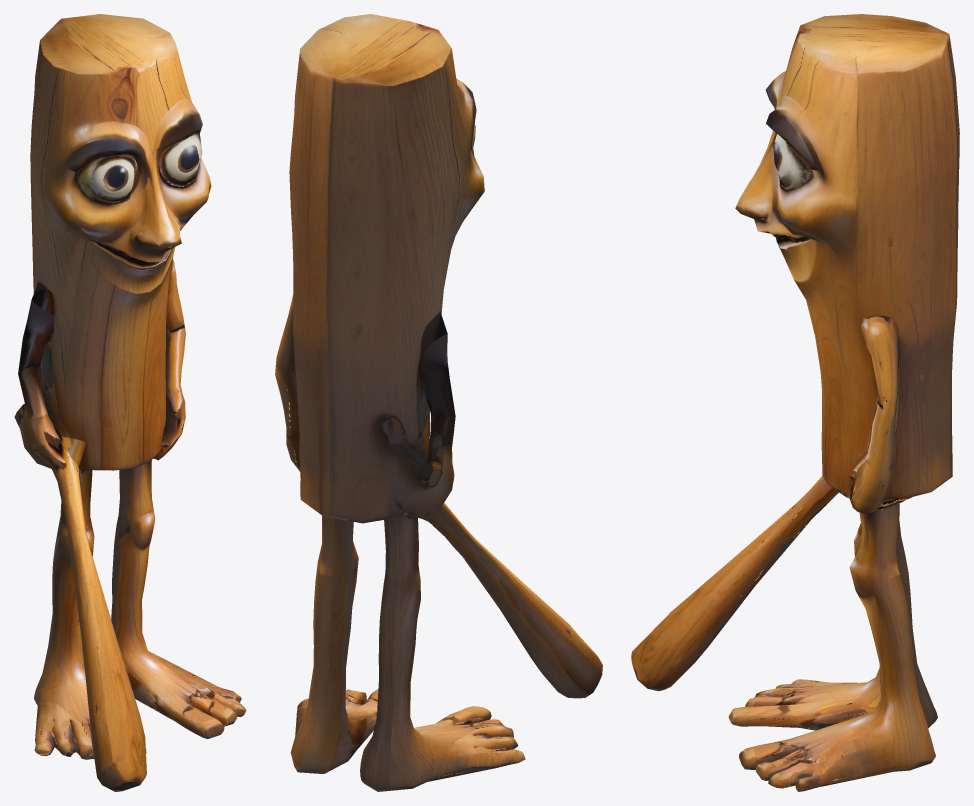
Rendered from thung.glb.
3 views of the same model, side by side, from view 1: azimuth 30°, elevation 25°; view 2: azimuth 150°, elevation 25°; view 3: azimuth 270°, elevation 25° (orthographic). The views are drawn at different scales.
Visible parts, largest first — view 1: tung tung tung sahur_Lowpoly; view 2: tung tung tung sahur_Lowpoly; view 3: tung tung tung sahur_Lowpoly.
Part boxes in pixels (bbox=[...]): tung tung tung sahur_Lowpoly: bbox=[14, 14, 246, 791]; tung tung tung sahur_Lowpoly: bbox=[275, 14, 602, 791]; tung tung tung sahur_Lowpoly: bbox=[631, 14, 959, 791].
Size of the model in its own units: 0.6516 by 1.96 by 0.826.
1 material, 1 textured.
